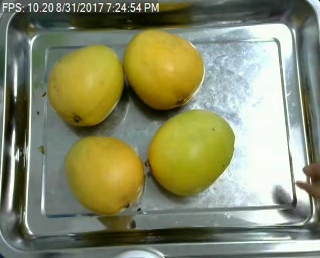Mango: (145, 109, 234, 194), (61, 134, 144, 218), (121, 26, 203, 107), (46, 45, 122, 129)
